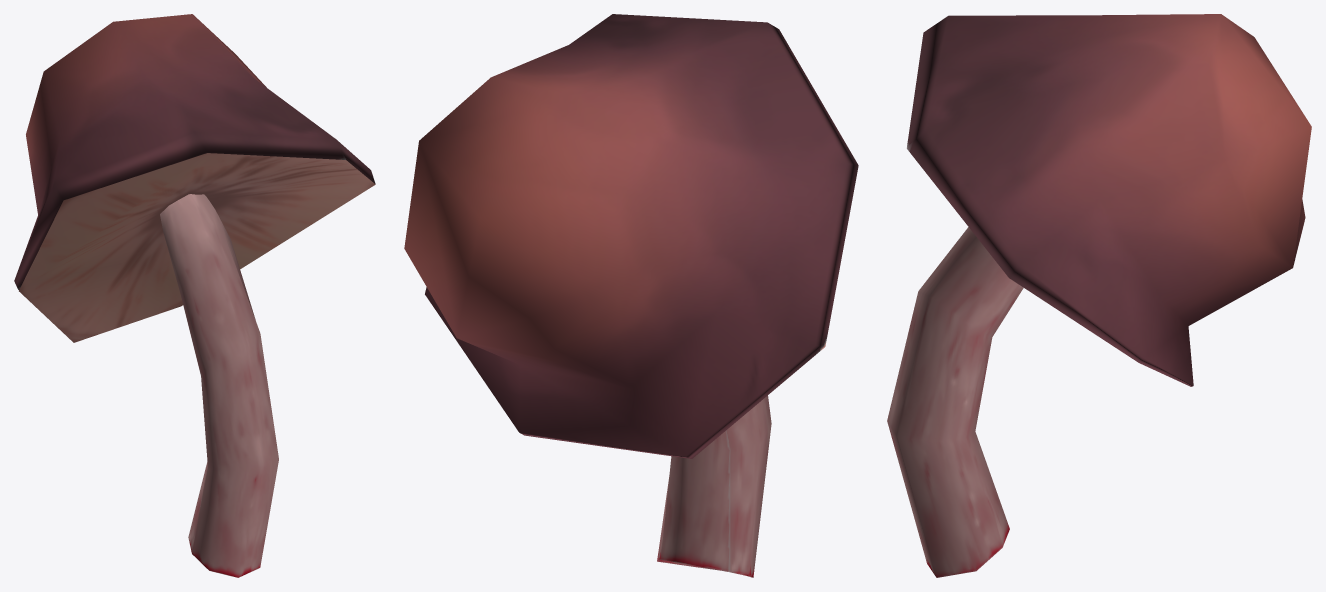
File: PROP_BendShroom_5.fbx
The picture shows the model from 3 angles, left to right: view 1: azimuth 30°, elevation 25°; view 2: azimuth 150°, elevation 25°; view 3: azimuth 270°, elevation 25°; orthographic projection. The views are drawn at different scales.
Parts seen in each view (by area): view 1: PROP_BendShroom_5; view 2: PROP_BendShroom_5; view 3: PROP_BendShroom_5.
Part boxes in pixels (left/top/right/bottom): PROP_BendShroom_5: left=14, top=14, right=375, bottom=577; PROP_BendShroom_5: left=404, top=14, right=858, bottom=577; PROP_BendShroom_5: left=887, top=14, right=1311, bottom=577.
Size of the model in its own units: 180 by 252 by 176.
1 material, 1 textured.
